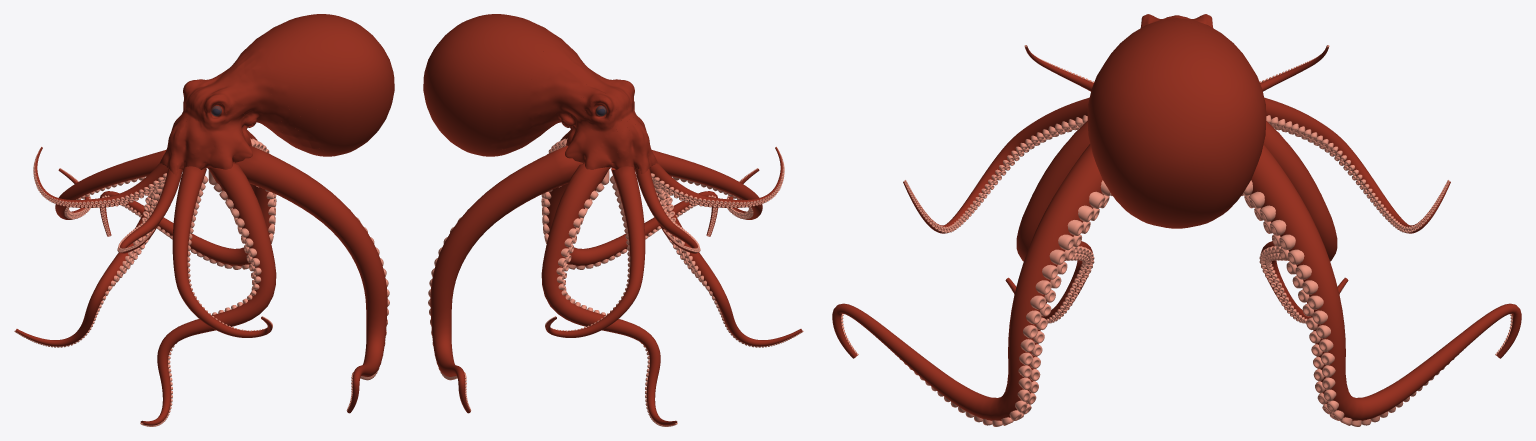
File: octopus.glb
The picture shows the model from 3 angles, left to right: view 1: azimuth 30°, elevation 25°; view 2: azimuth 150°, elevation 25°; view 3: azimuth 270°, elevation 25°; orthographic projection. The views are drawn at different scales.
Visible parts, largest first — view 1: Sphere, Body.001, Body.002, Body.003, Suckers.002, Body.004, Suckers.001, Suckers.004, Suckers.003; view 2: Sphere, Body.001, Body.002, Body.003, Suckers.002, Body.004, Suckers.001, Suckers.004, Suckers.003; view 3: Sphere, Body.001, Suckers.001, Body.002, Body.003, Suckers.003, Suckers.002, Body.004.
Boxes of the visible parts, <box> form: Sphere: <box>160,14,394,176</box>; Body.001: <box>99,130,387,413</box>; Body.002: <box>15,162,276,425</box>; Body.003: <box>55,149,272,337</box>; Suckers.002: <box>14,170,261,426</box>; Body.004: <box>35,147,182,253</box>; Suckers.001: <box>100,138,389,410</box>; Suckers.004: <box>33,146,166,252</box>; Suckers.003: <box>59,168,272,331</box>; Sphere: <box>423,14,657,173</box>; Body.001: <box>430,130,718,413</box>; Body.002: <box>541,162,802,425</box>; Body.003: <box>545,149,762,337</box>; Suckers.002: <box>556,170,803,426</box>; Body.004: <box>635,147,782,253</box>; Suckers.001: <box>428,138,717,410</box>; Suckers.004: <box>651,146,784,252</box>; Suckers.003: <box>545,168,758,331</box>; Sphere: <box>1087,14,1266,228</box>; Body.001: <box>832,144,1521,420</box>; Suckers.001: <box>841,180,1512,426</box>; Body.002: <box>1005,120,1348,319</box>; Body.003: <box>903,97,1450,233</box>; Suckers.003: <box>904,115,1449,232</box>; Suckers.002: <box>1012,246,1341,323</box>; Body.004: <box>1025,45,1328,91</box>.
Size of the model in its own units: 15.39 by 14.96 by 22.23.
